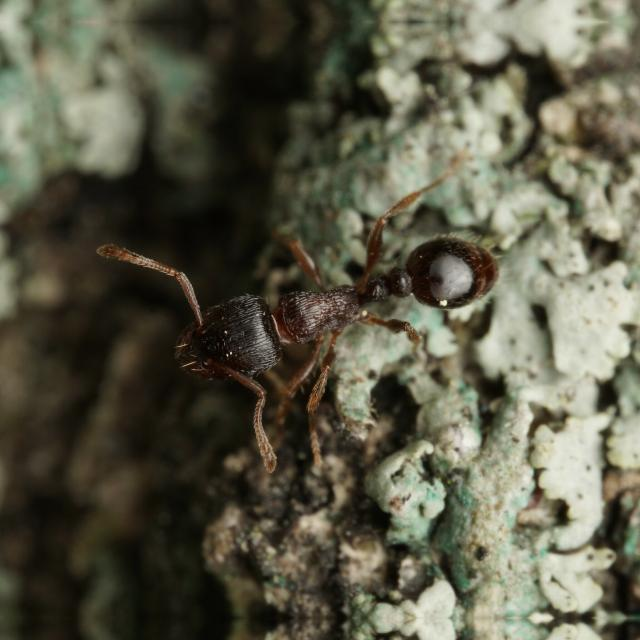Tetramorium: (146, 180, 536, 432)
